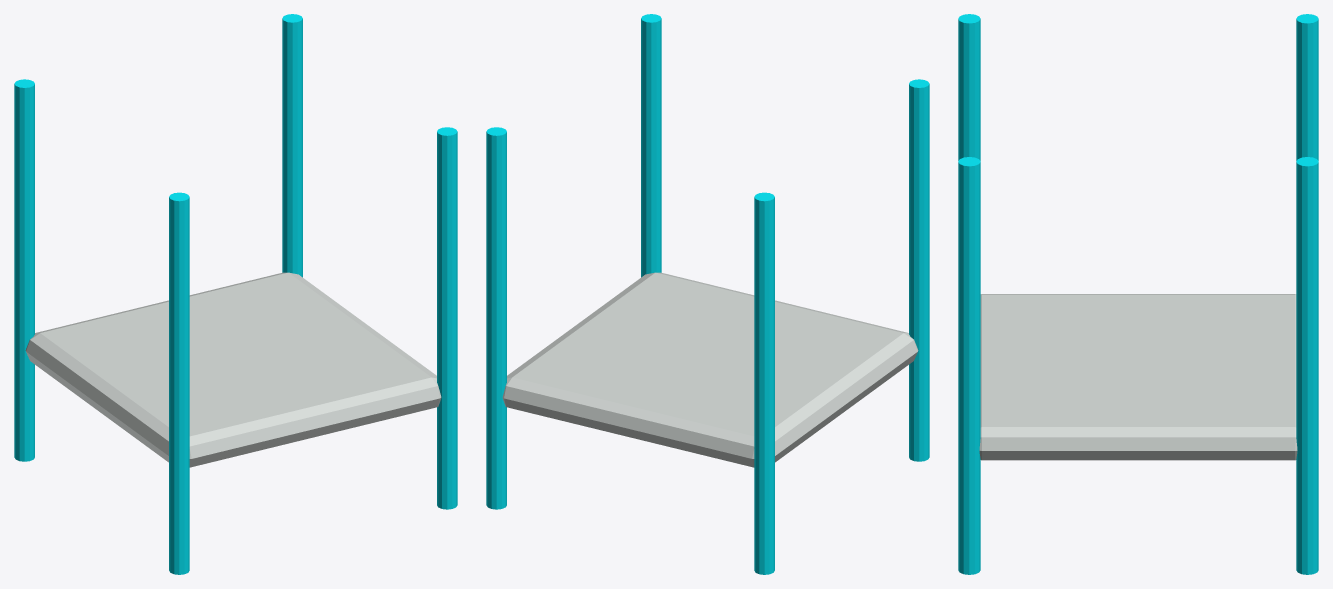
Rendered from LPK_CentralLift_4m.fbx.
3 renders of one model, left to right at view 1: azimuth 30°, elevation 25°; view 2: azimuth 150°, elevation 25°; view 3: azimuth 270°, elevation 25°, orthographic. The views are drawn at different scales.
Visible parts, largest first — view 1: LiftPlatformPivot, Lift_Rail, Lift_Rail.002, Lift_Rail.001, Lift_Rail.003; view 2: LiftPlatformPivot, Lift_Rail.001, Lift_Rail.003, Lift_Rail, Lift_Rail.002; view 3: LiftPlatformPivot, Lift_Rail.002, Lift_Rail.003, Lift_Rail, Lift_Rail.001.
Part boxes in pixels (bbox=[...]): LiftPlatformPivot: bbox=[25, 272, 441, 467]; Lift_Rail: bbox=[169, 192, 189, 574]; Lift_Rail.002: bbox=[437, 127, 457, 509]; Lift_Rail.001: bbox=[14, 79, 34, 461]; Lift_Rail.003: bbox=[282, 14, 302, 277]; LiftPlatformPivot: bbox=[502, 272, 918, 467]; Lift_Rail.001: bbox=[754, 192, 774, 574]; Lift_Rail.003: bbox=[486, 127, 506, 509]; Lift_Rail: bbox=[909, 79, 929, 461]; Lift_Rail.002: bbox=[641, 14, 661, 277]; LiftPlatformPivot: bbox=[979, 294, 1297, 460]; Lift_Rail.002: bbox=[958, 157, 980, 574]; Lift_Rail.003: bbox=[1296, 157, 1318, 574]; Lift_Rail: bbox=[958, 14, 980, 160]; Lift_Rail.001: bbox=[1296, 14, 1318, 160].
Size of the model in its own units: 3.2 by 4 by 3.2.
